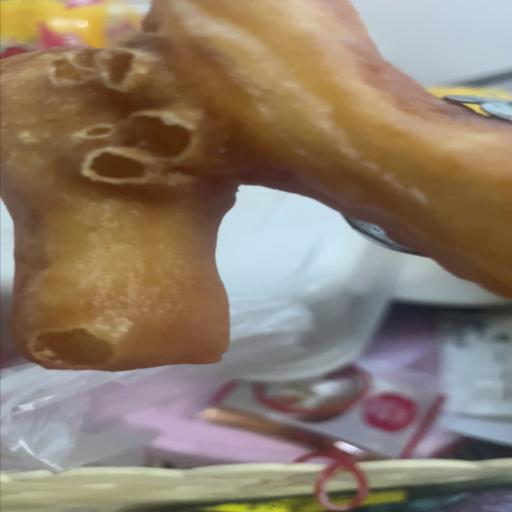street_burnt_defect: (0, 0, 509, 374)
